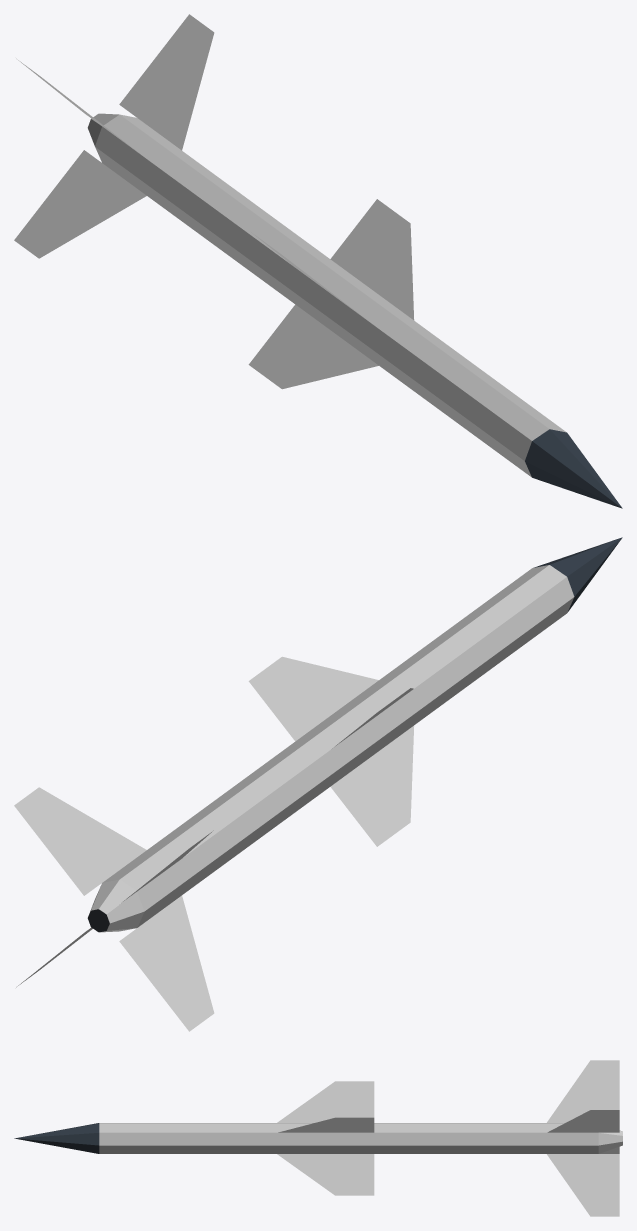
Rendered from missile_radar_medium.glb.
3 views of the same model, one above another, from view 1: azimuth 30°, elevation 25°; view 2: azimuth 150°, elevation 25°; view 3: azimuth 270°, elevation 25° (orthographic). The views are drawn at different scales.
Visible parts, largest first — view 1: missile_radar_medium; view 2: missile_radar_medium; view 3: missile_radar_medium.
Part boxes in pixels (x1,y1,x2,y2): missile_radar_medium: [14, 14, 622, 508]; missile_radar_medium: [14, 537, 622, 1031]; missile_radar_medium: [14, 1060, 622, 1216].
Size of the model in its own units: 0.7068 by 0.7068 by 3.66.
